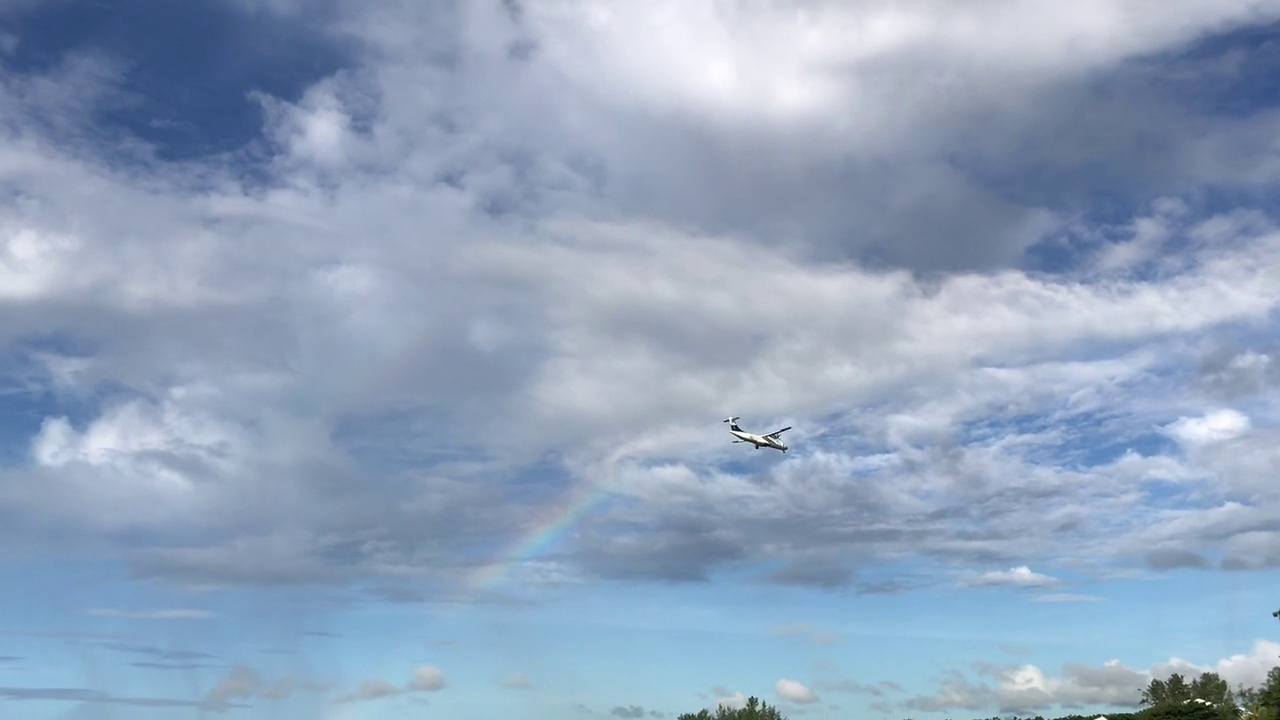plane: (723, 415, 790, 452)
